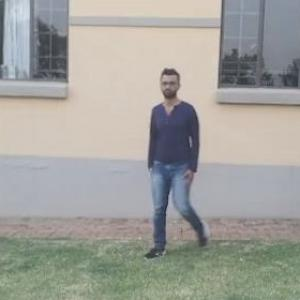follow: (147, 68, 201, 254)
